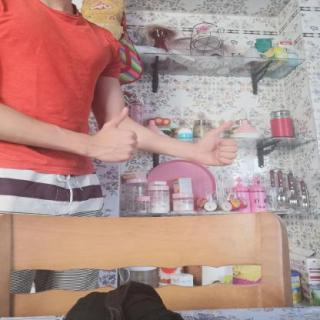ALIF: (82, 100, 144, 166), (188, 113, 244, 171)
